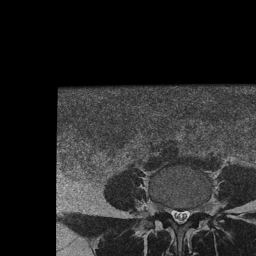CCS_normal: (177, 201, 183, 230)
LFS_normal: (190, 199, 198, 220)
LLS_normal: (183, 202, 190, 225)
RFS_stenosis: (163, 196, 170, 220)
RLS_stenosis: (170, 201, 177, 226)
